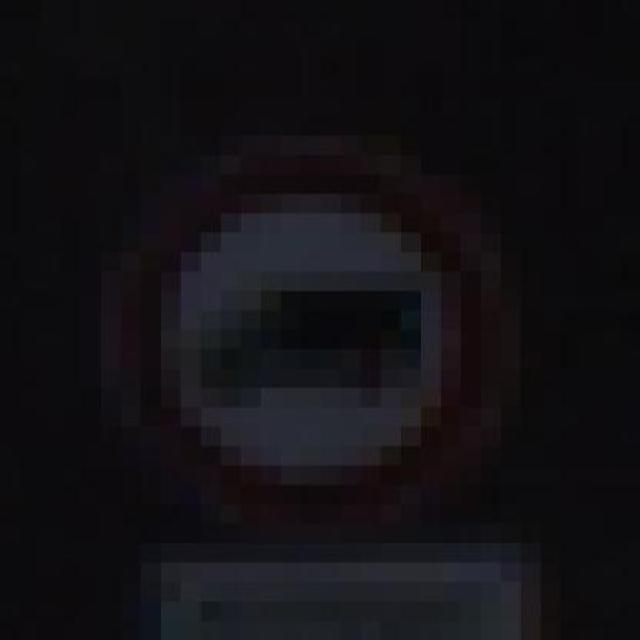Truck traffic is prohibited: (60, 97, 520, 563)
